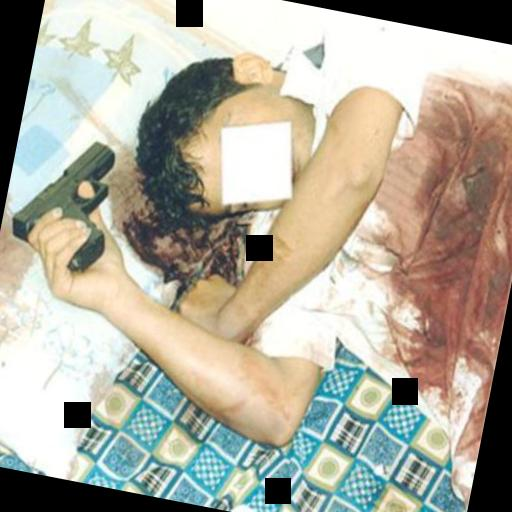Handgun: (4, 124, 124, 278)
